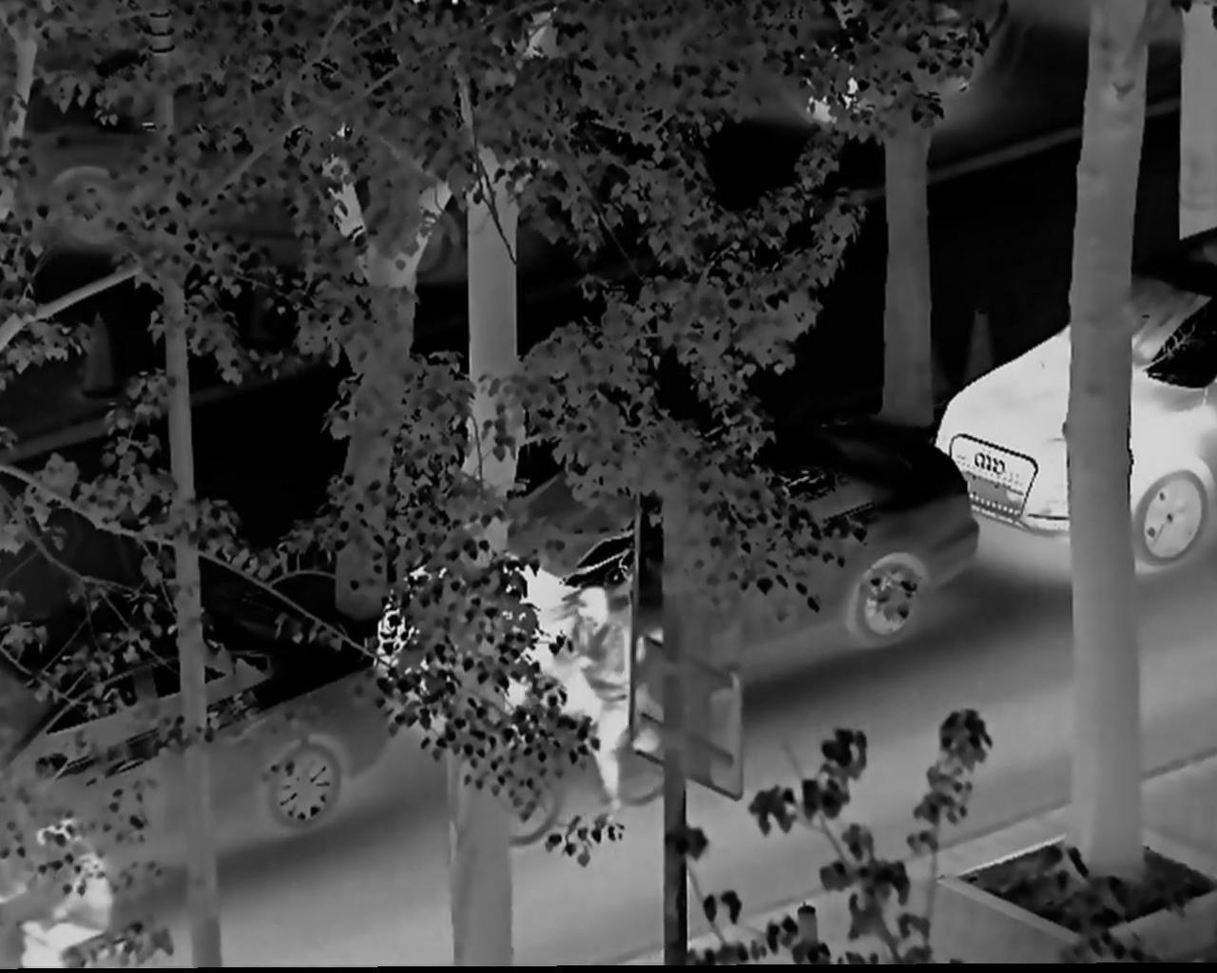person: (517, 582, 645, 838)
